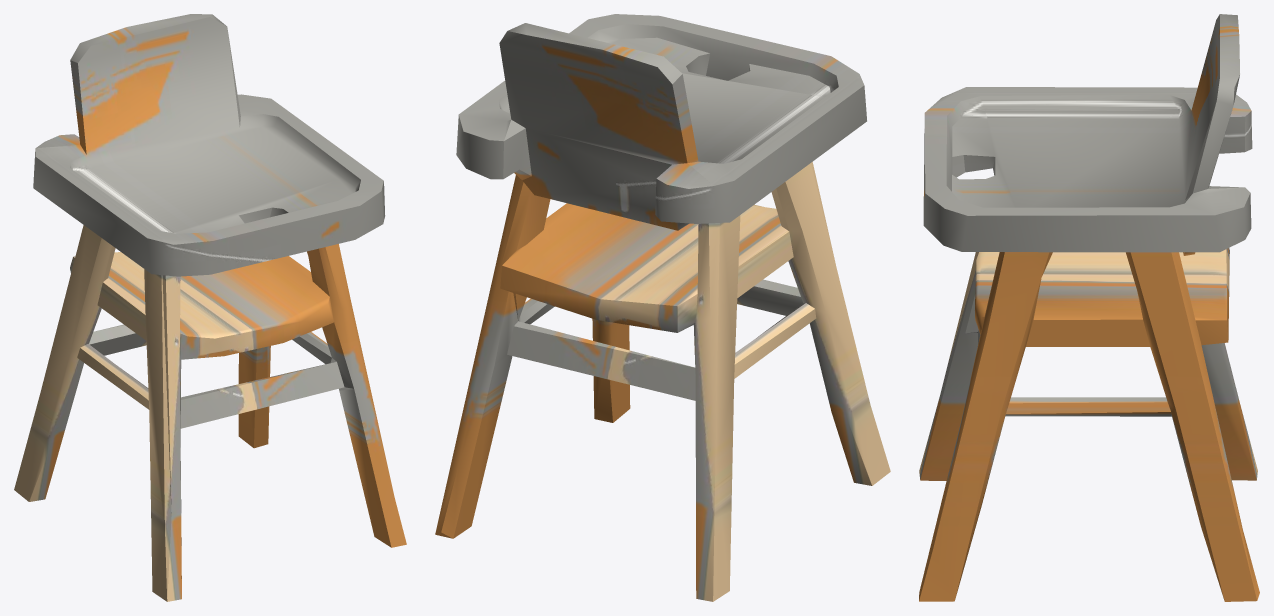
3 renders of one model, left to right at view 1: azimuth 30°, elevation 25°; view 2: azimuth 150°, elevation 25°; view 3: azimuth 270°, elevation 25°, orthographic. The views are drawn at different scales.
Visible parts, largest first — view 1: Decor_high_chair_b; view 2: Decor_high_chair_b; view 3: Decor_high_chair_b.
Boxes of the visible parts, <box> form: Decor_high_chair_b: <box>14,14,406,601</box>; Decor_high_chair_b: <box>435,14,890,601</box>; Decor_high_chair_b: <box>919,14,1259,601</box>.
Size of the model in its own units: 0.5047 by 0.8958 by 0.5618.
Materials: 1 (1 with a texture image).
